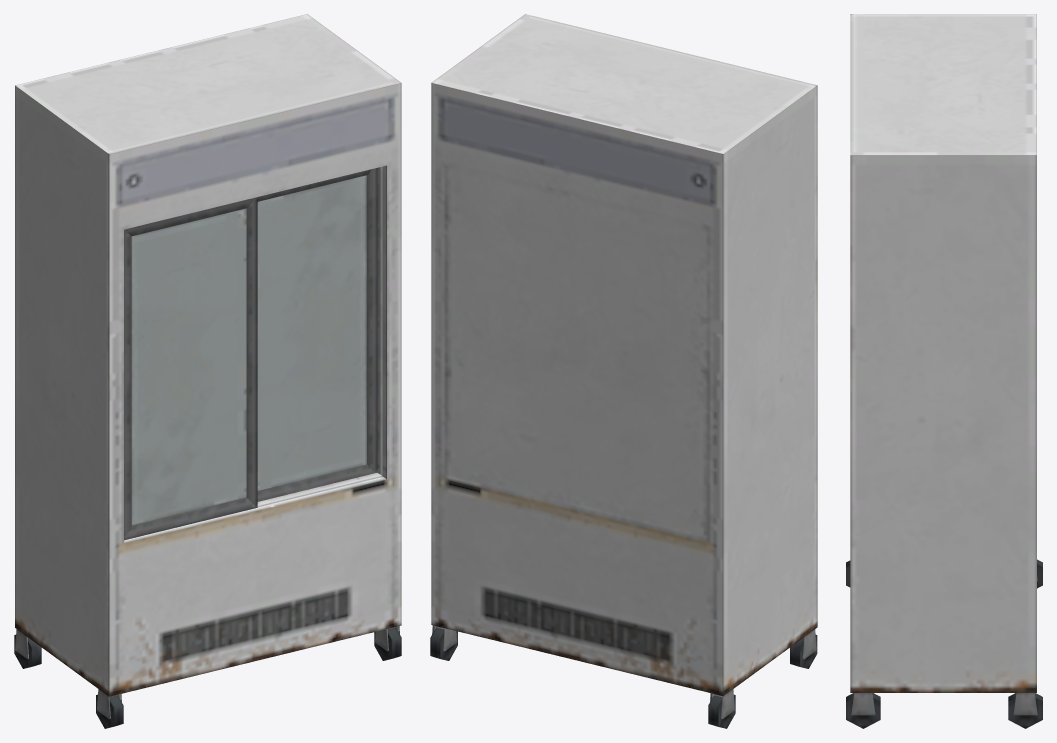
Rendered from sm24_006_refrigerator01a.fbx.
The picture shows the model from 3 angles, left to right: view 1: azimuth 30°, elevation 25°; view 2: azimuth 150°, elevation 25°; view 3: azimuth 270°, elevation 25°; orthographic projection.
Visible parts, largest first — view 1: LOD_1_Group_7_Sub_1__sm24_006_refrigerator01A_A_Mat, LOD_1_Group_1_Sub_1__sm24_006_refrigerator01A_A_Mat1__Env_Al, LOD_1_Group_0_Sub_1__sm24_006_refrigerator01A_A_Mat, LOD_1_Group_4_Sub_1__sm24_006_refrigerator01A_A_Mat; view 2: LOD_1_Group_7_Sub_1__sm24_006_refrigerator01A_A_Mat, LOD_1_Group_4_Sub_1__sm24_006_refrigerator01A_A_Mat; view 3: LOD_1_Group_7_Sub_1__sm24_006_refrigerator01A_A_Mat, LOD_1_Group_4_Sub_1__sm24_006_refrigerator01A_A_Mat.
Boxes of the visible parts, <box> form: LOD_1_Group_7_Sub_1__sm24_006_refrigerator01A_A_Mat: <box>15,14,401,696</box>; LOD_1_Group_1_Sub_1__sm24_006_refrigerator01A_A_Mat1__Env_Al: <box>131,175,366,525</box>; LOD_1_Group_0_Sub_1__sm24_006_refrigerator01A_A_Mat: <box>124,168,377,540</box>; LOD_1_Group_4_Sub_1__sm24_006_refrigerator01A_A_Mat: <box>14,626,401,728</box>; LOD_1_Group_7_Sub_1__sm24_006_refrigerator01A_A_Mat: <box>431,14,817,696</box>; LOD_1_Group_4_Sub_1__sm24_006_refrigerator01A_A_Mat: <box>430,625,817,728</box>; LOD_1_Group_7_Sub_1__sm24_006_refrigerator01A_A_Mat: <box>850,14,1036,692</box>; LOD_1_Group_4_Sub_1__sm24_006_refrigerator01A_A_Mat: <box>846,559,1042,728</box>.
Size of the model in its own units: 1.08 by 2.05 by 0.6368.
